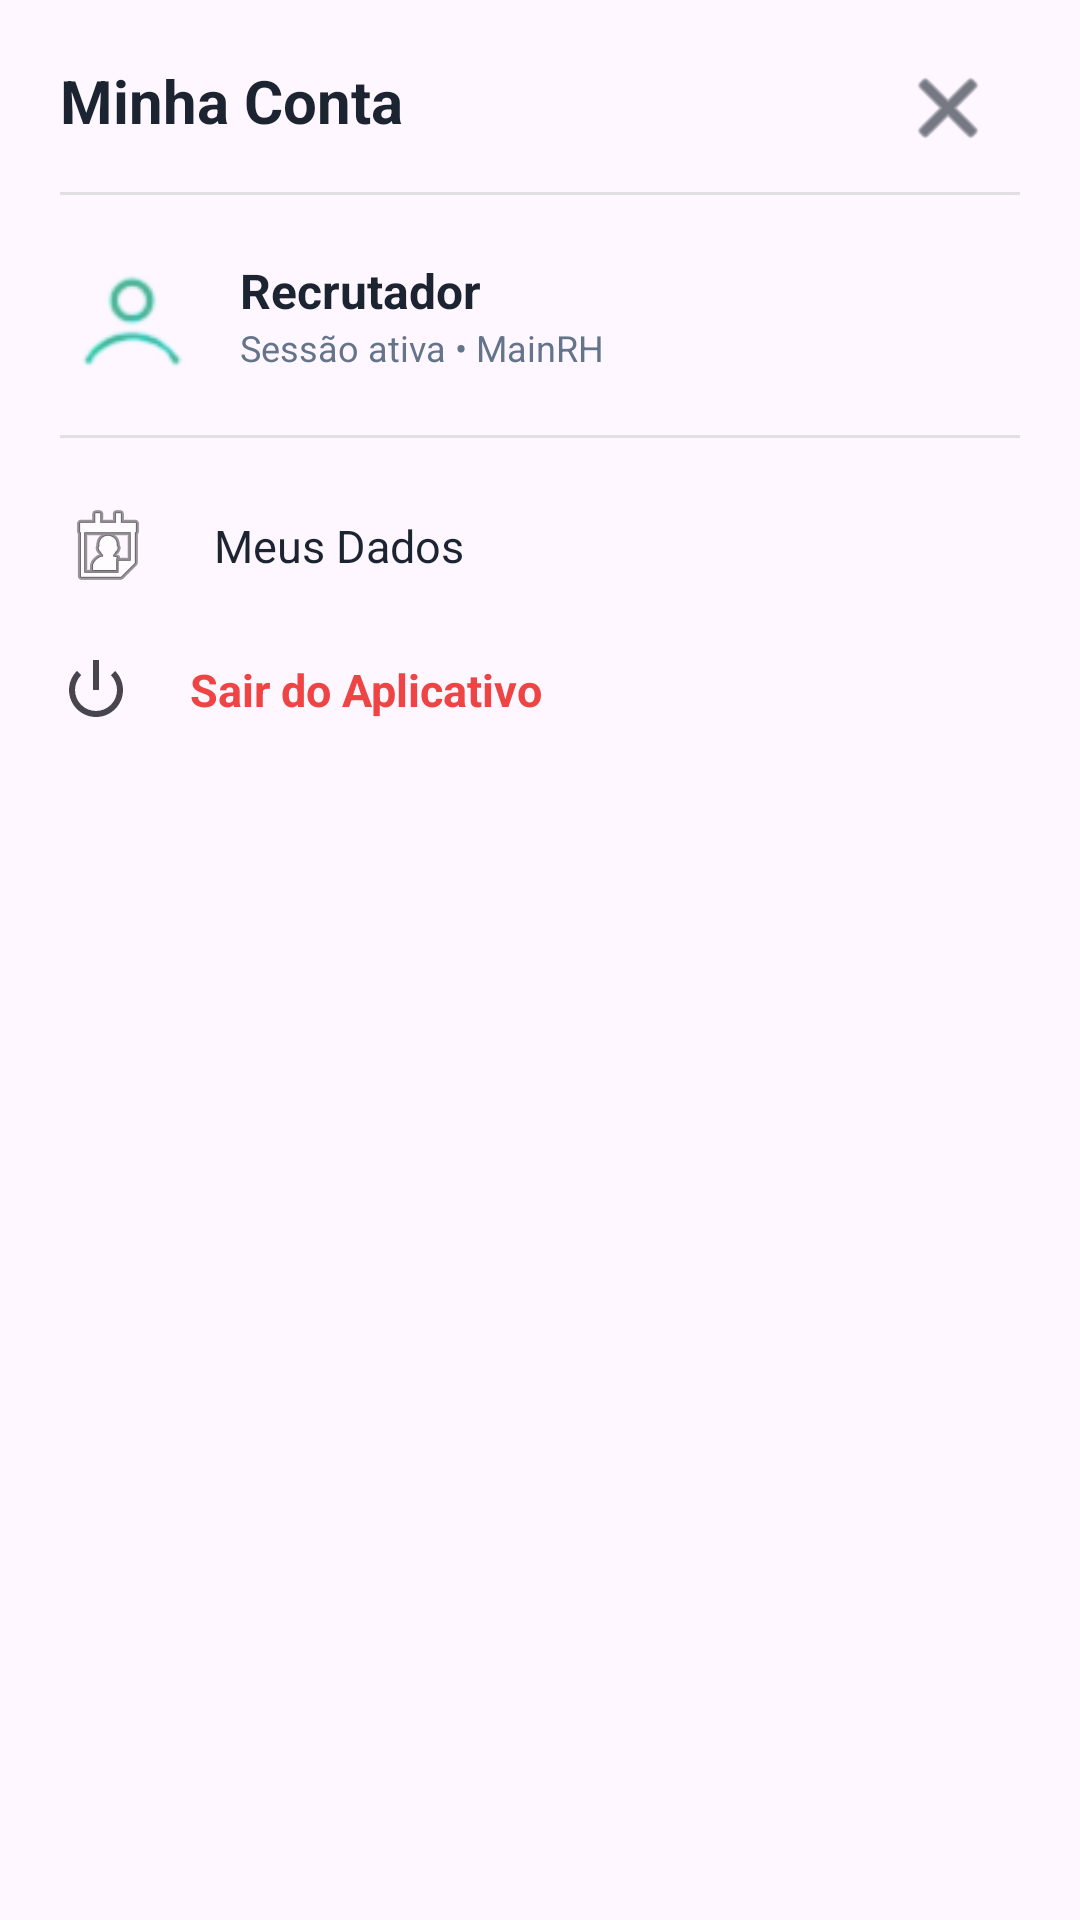

Named icons in this screenshot (1080px×1920px) and their centers, (x,y):
close clear cancel: (948,108)
fotoperfil: (132,321)
